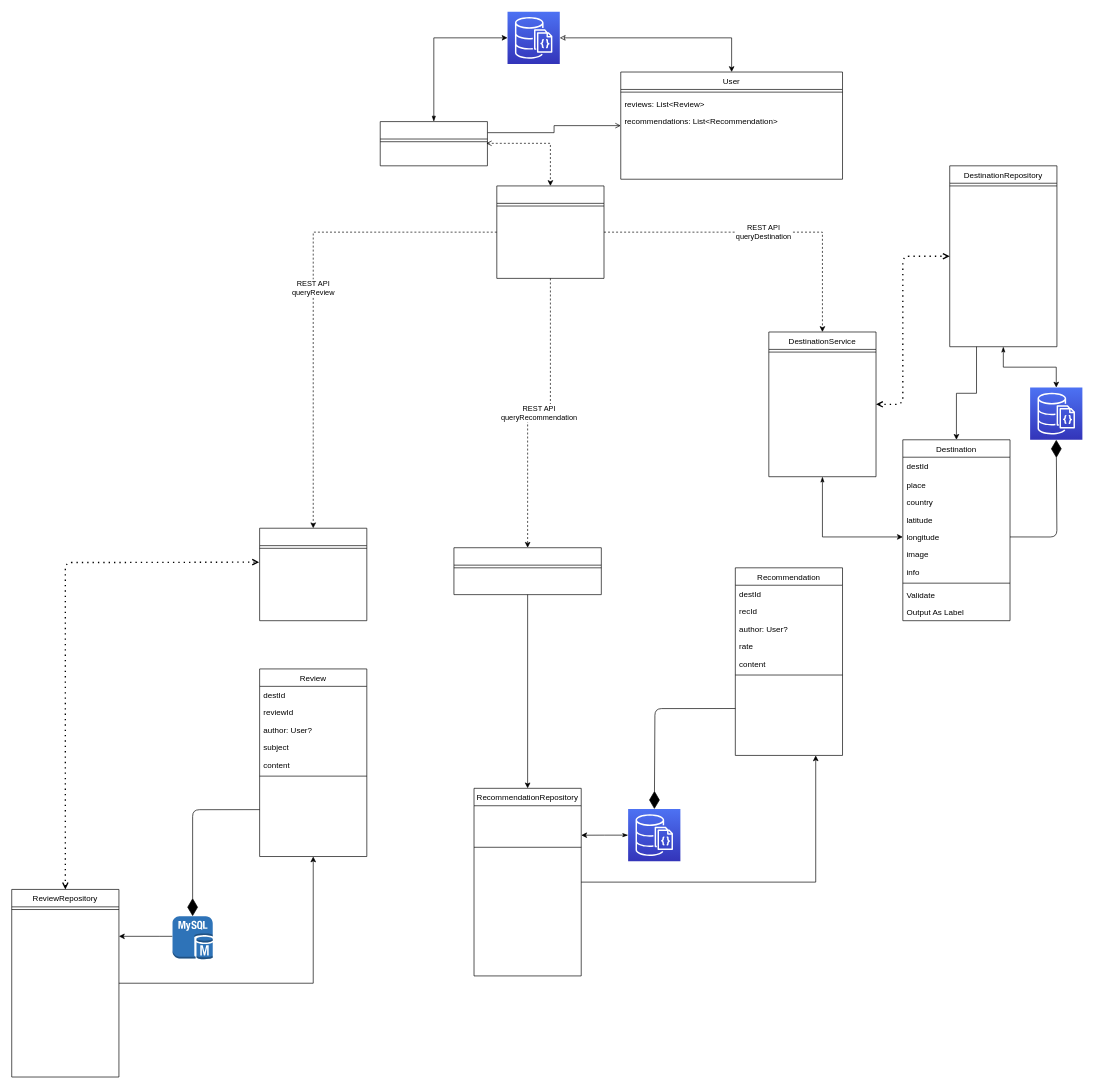
The diagram is 1094 pixels wide and 1089 high, and some of its shapes have lost their labels. Each missing label, with the box of its shape:
RecommendService: (453, 547, 601, 595)
ReviewService: (259, 528, 367, 621)
UserRepository: (380, 121, 487, 166)
UserService: (496, 185, 604, 278)
